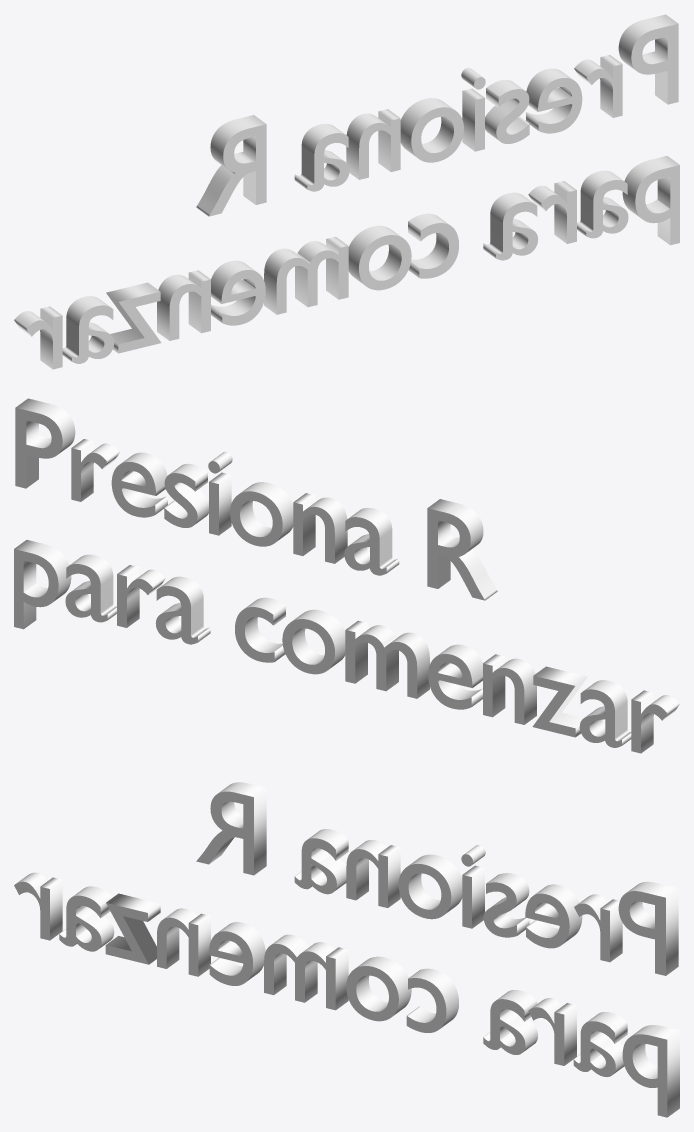
File: run.obj
The picture shows the model from 3 angles, top to bottom: view 1: azimuth 30°, elevation 25°; view 2: azimuth 150°, elevation 25°; view 3: azimuth 330°, elevation 25°; orthographic projection.
Parts seen in each view (by area): view 1: Text; view 2: Text; view 3: Text.
Boxes of the visible parts, <box> form: Text: <box>14,14,679,369</box>; Text: <box>14,398,679,753</box>; Text: <box>14,782,679,1117</box>.
Size of the model in its own units: 8.58 by 2.76 by 0.2884.
Materials: 1 (1 with a texture image).
